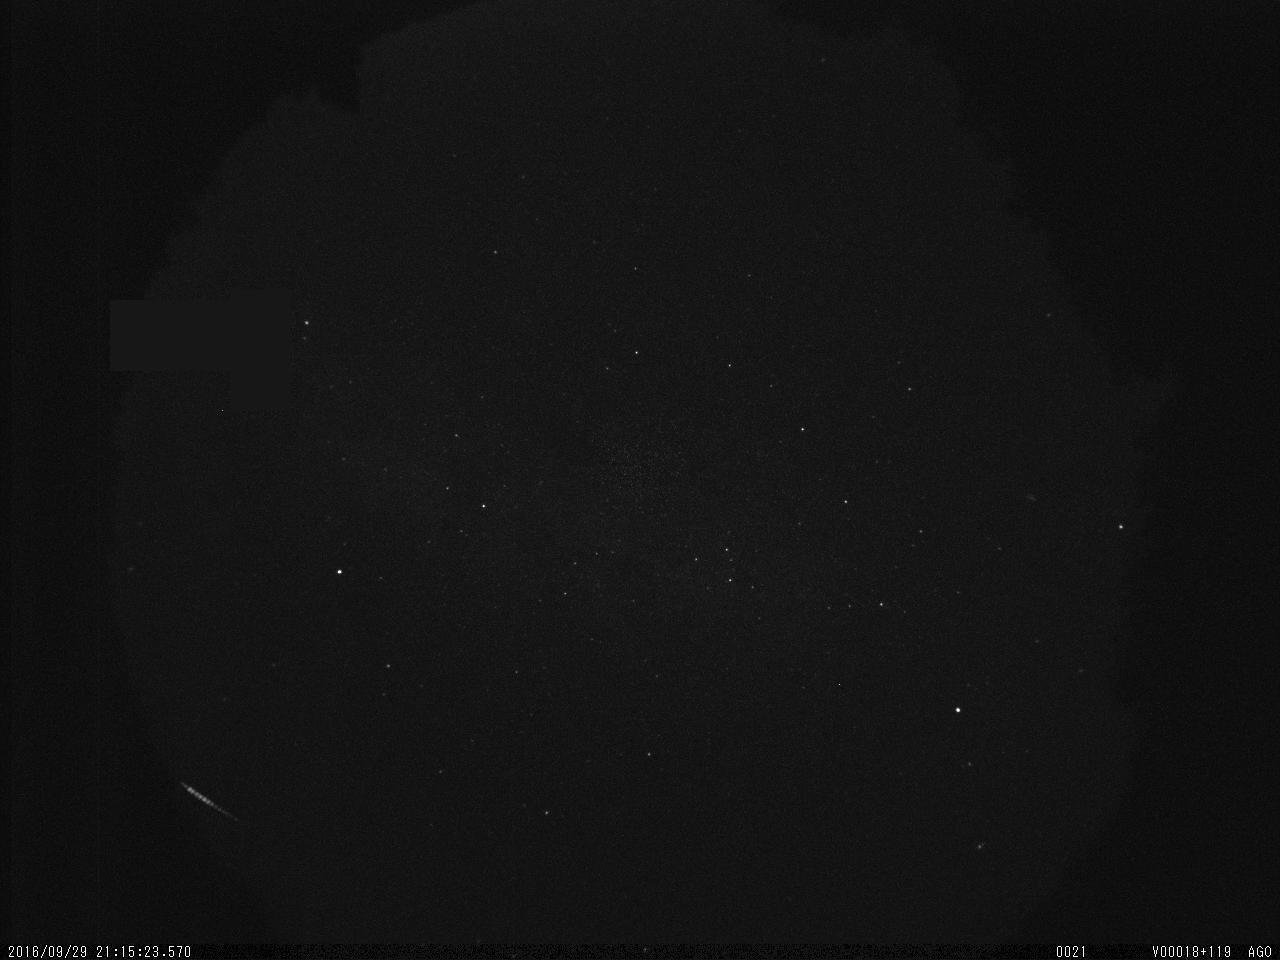Meteor: (174, 774, 242, 826)
